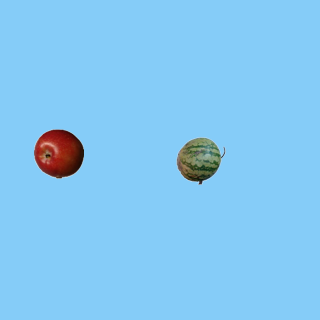Apple Braeburn: (33, 128, 83, 178)
Watermelon: (175, 135, 225, 185)
